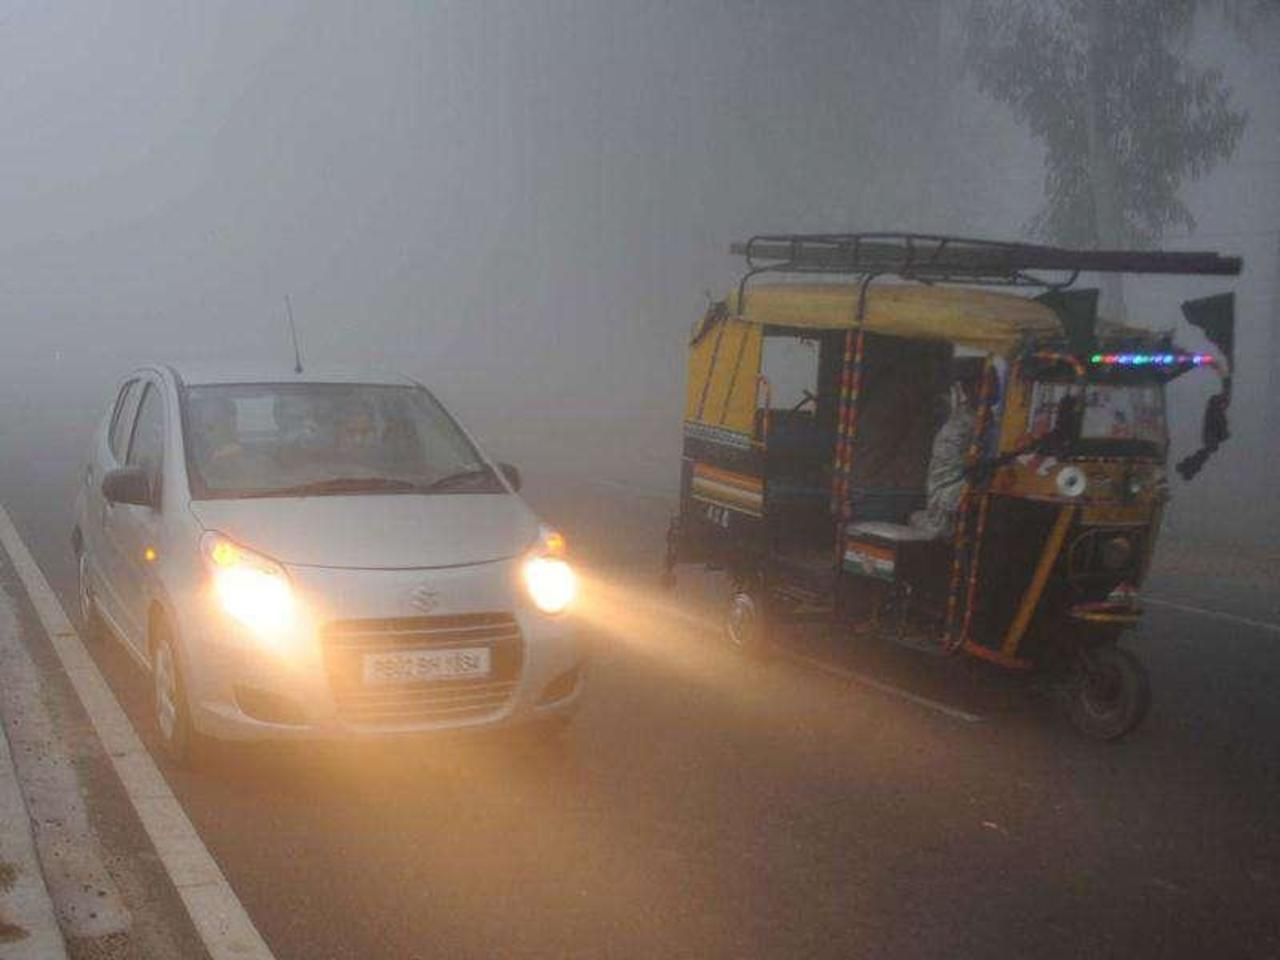car: (665, 235, 1232, 733), (80, 367, 591, 772)
